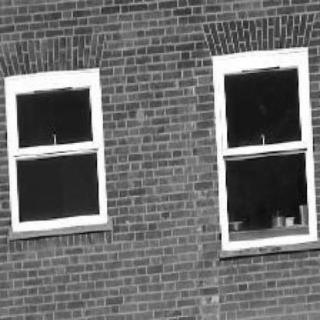other: (8, 41, 312, 293)
